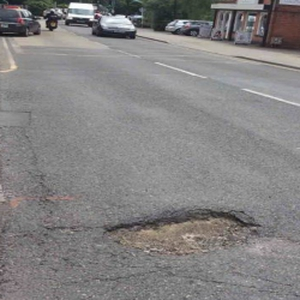pothole: (106, 206, 263, 260)
